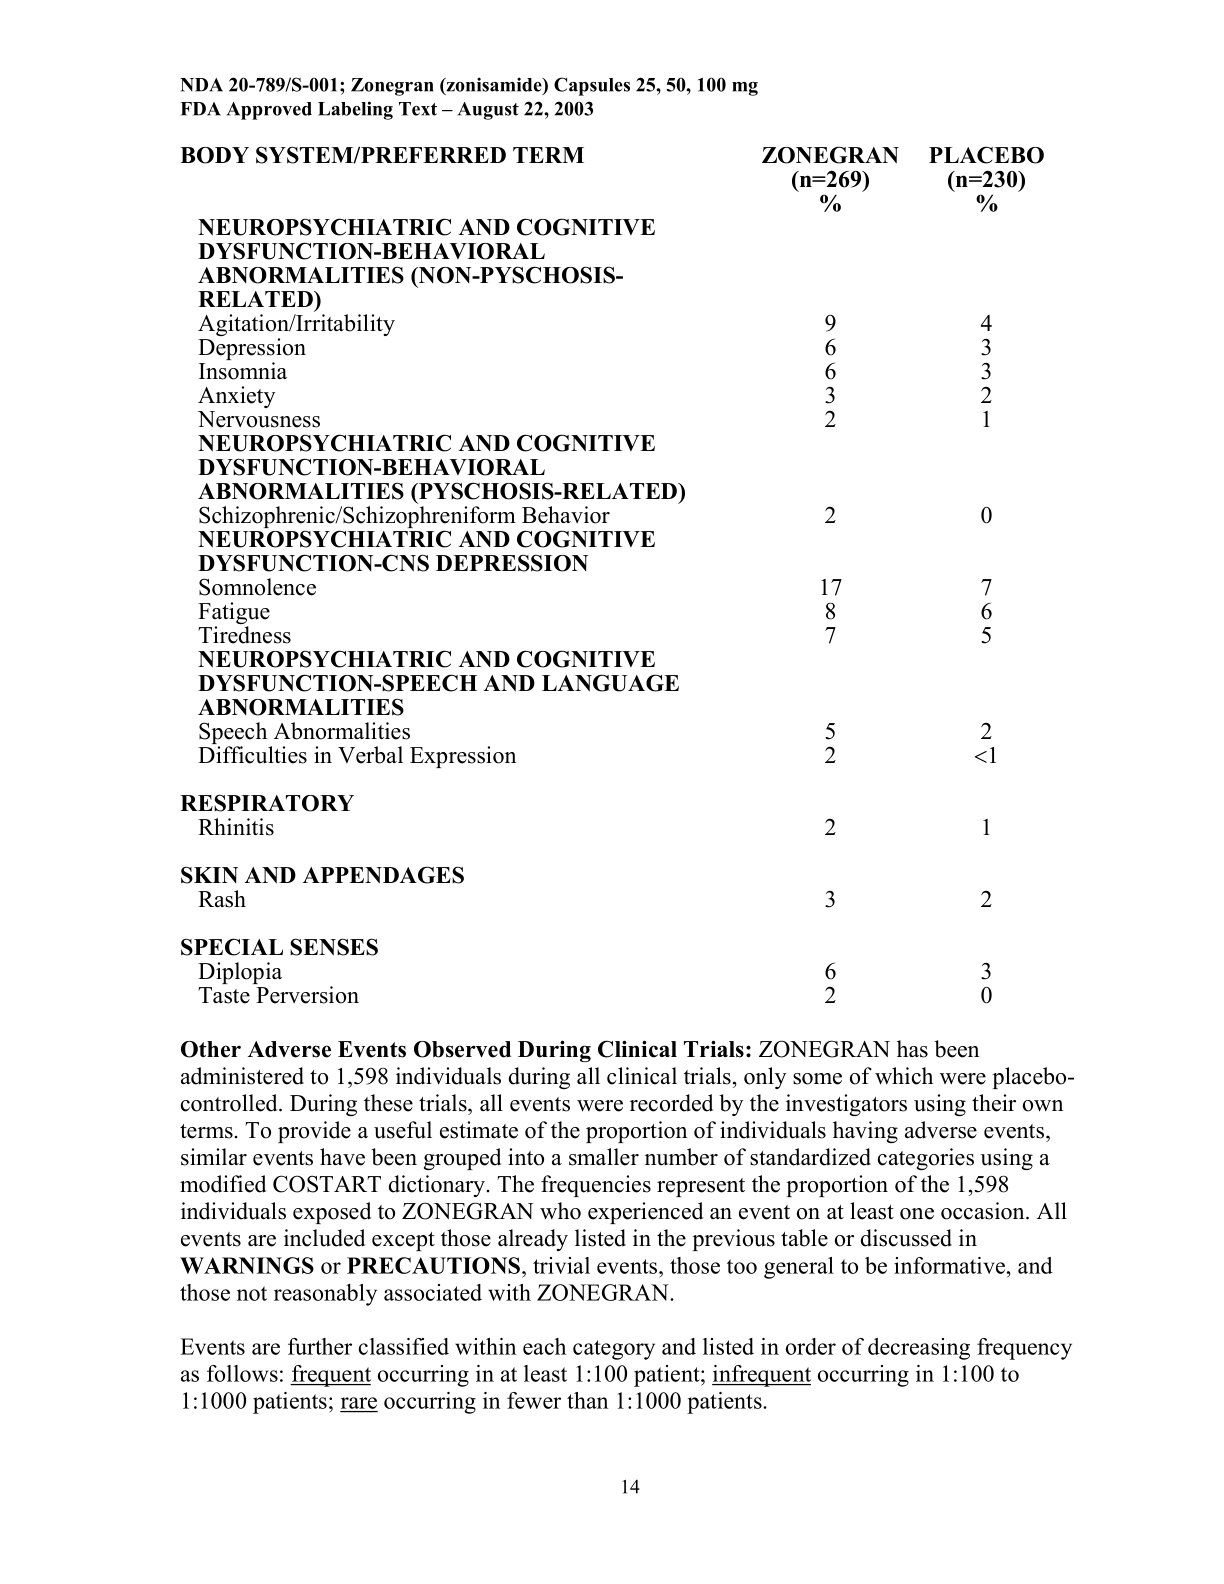nolines: (177, 141, 1047, 1013)
